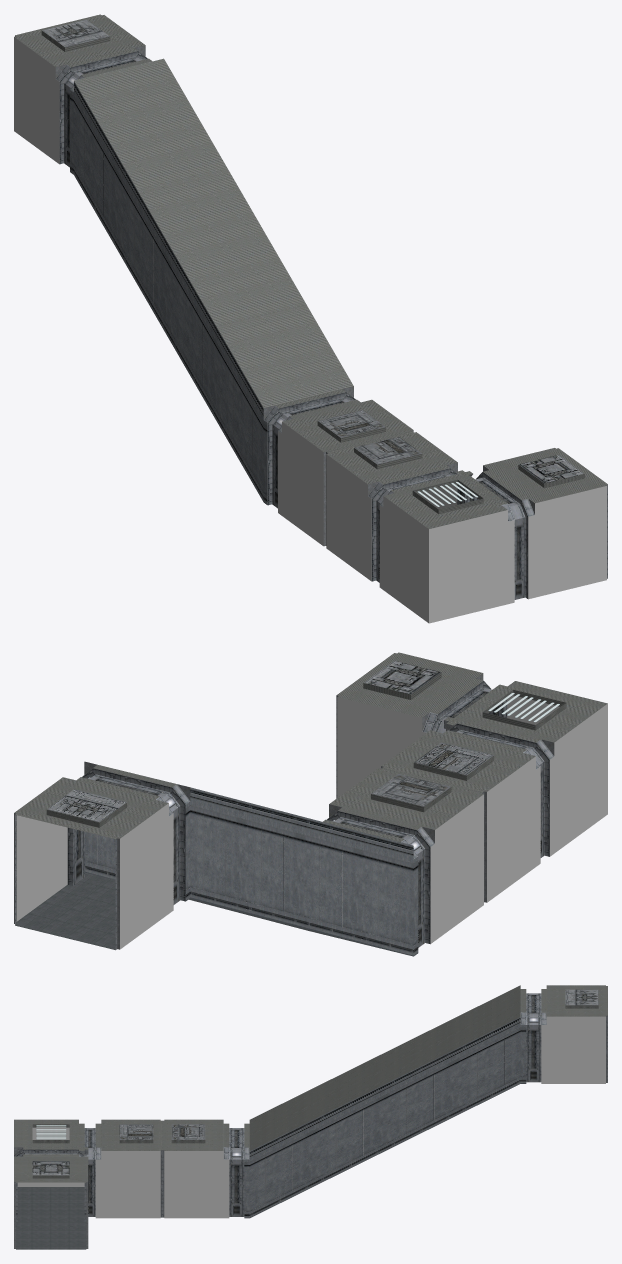
File: poi_all_impl_bunker_small_outpost_s01_r18_ramp2_mesh.fbx
The picture shows the model from 3 angles, top to bottom: view 1: azimuth 30°, elevation 25°; view 2: azimuth 150°, elevation 25°; view 3: azimuth 270°, elevation 25°; orthographic projection. The views are drawn at different scales.
Parts seen in each view (by area): view 1: mesh_node; view 2: mesh_node; view 3: mesh_node.
Boxes of the visible parts, x1=… form: mesh_node: x1=14, y1=14, x2=607, y2=623; mesh_node: x1=14, y1=652, x2=607, y2=956; mesh_node: x1=14, y1=985, x2=607, y2=1249.
Size of the model in its own units: 8 by 12.2 by 32.
